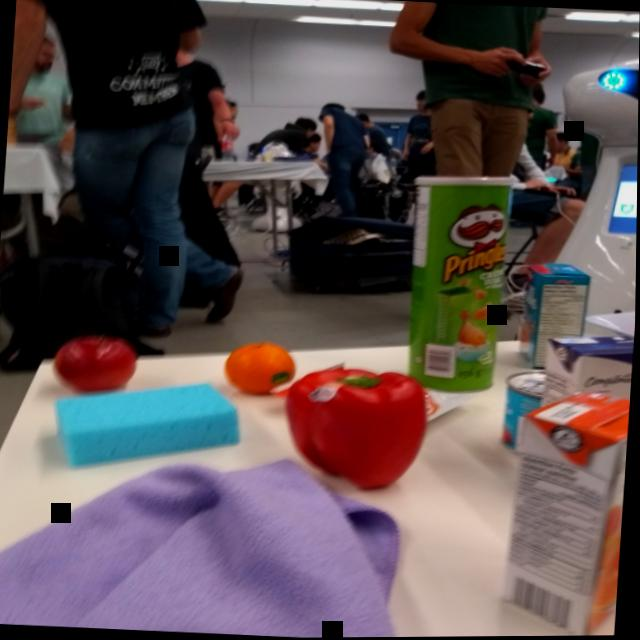apple: (46, 331, 150, 396)
cereal: (520, 260, 593, 370)
grape_juice: (544, 331, 636, 402)
orange: (221, 338, 300, 397)
orange_juice: (492, 383, 631, 637)
paprika: (284, 363, 440, 494)
pringles: (396, 168, 513, 399)
sausages: (500, 372, 547, 449)
sponge_opl: (42, 372, 246, 479)
